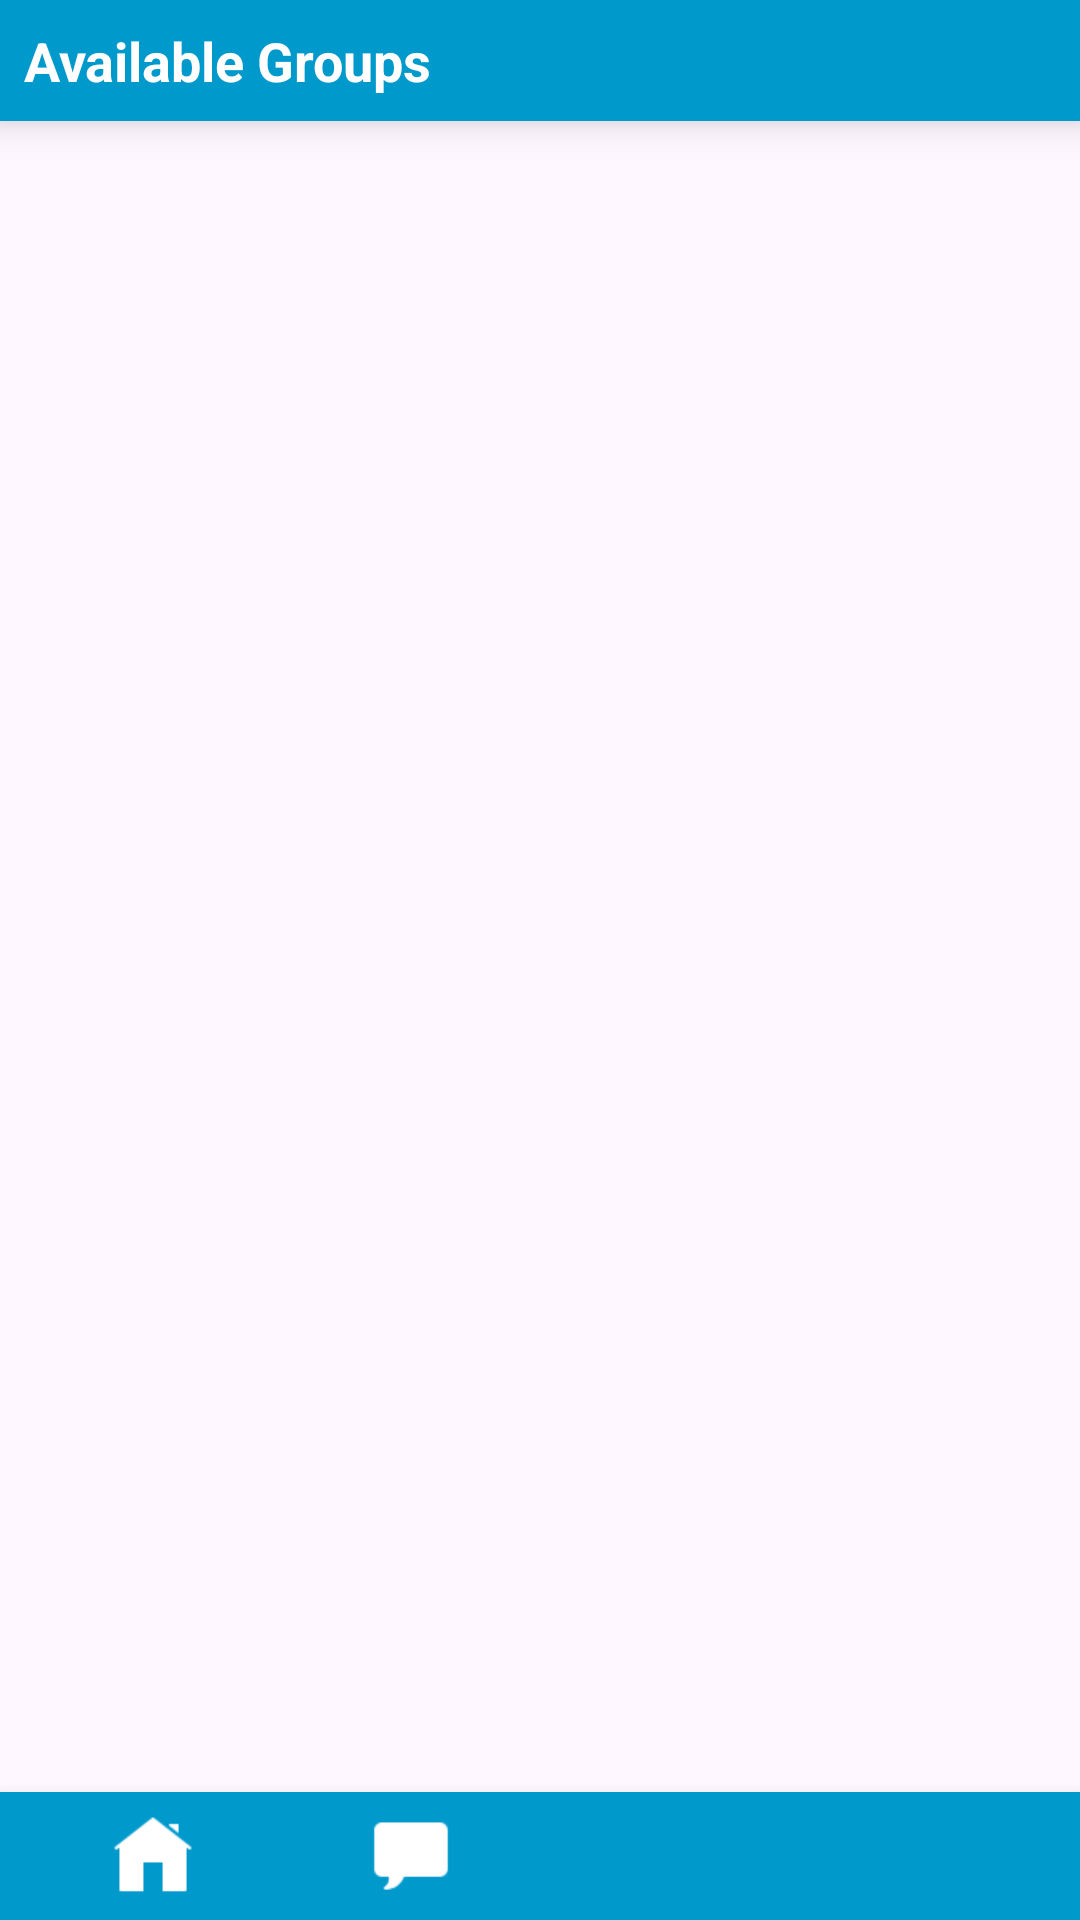

Screen size 1080*1920. Icon name, then its center in pixels as point (x, y):
chat: point (411, 1856)
home: point (153, 1854)
